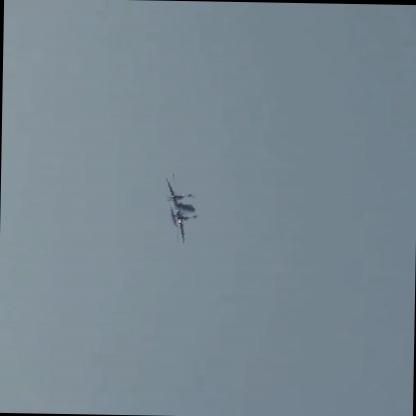plane: (165, 172, 202, 243)
